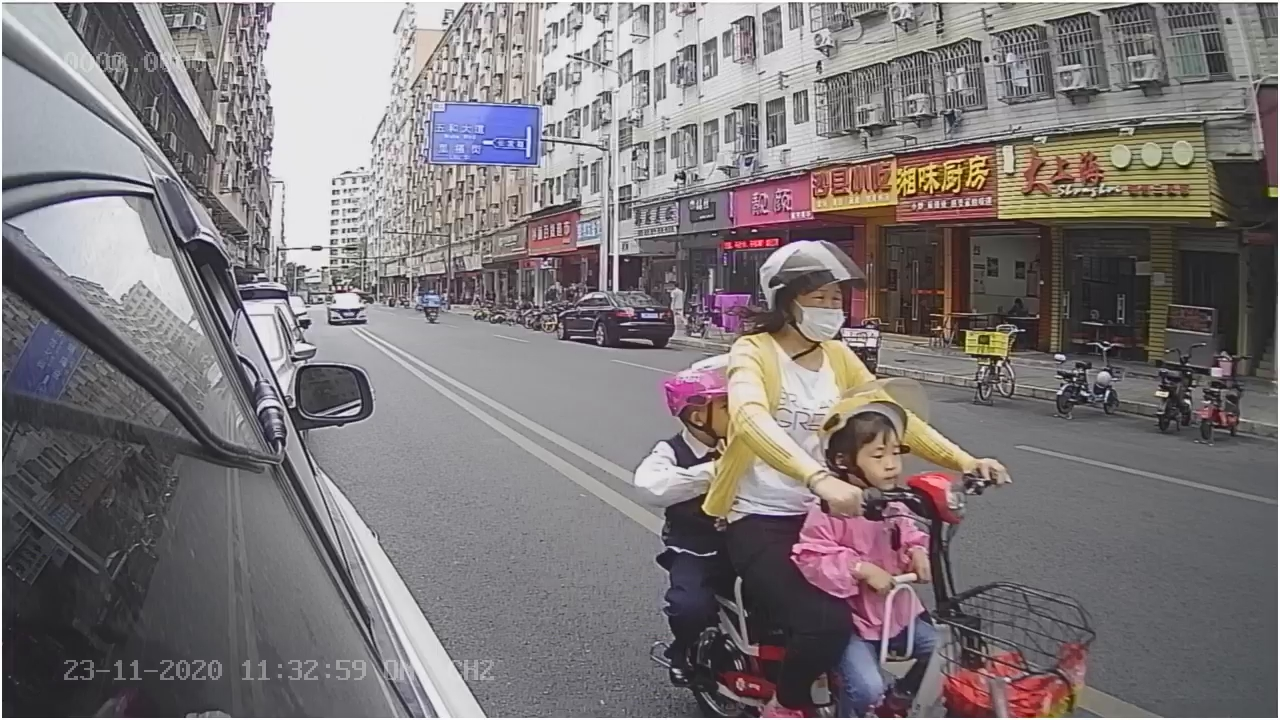person: (730, 237, 954, 486)
